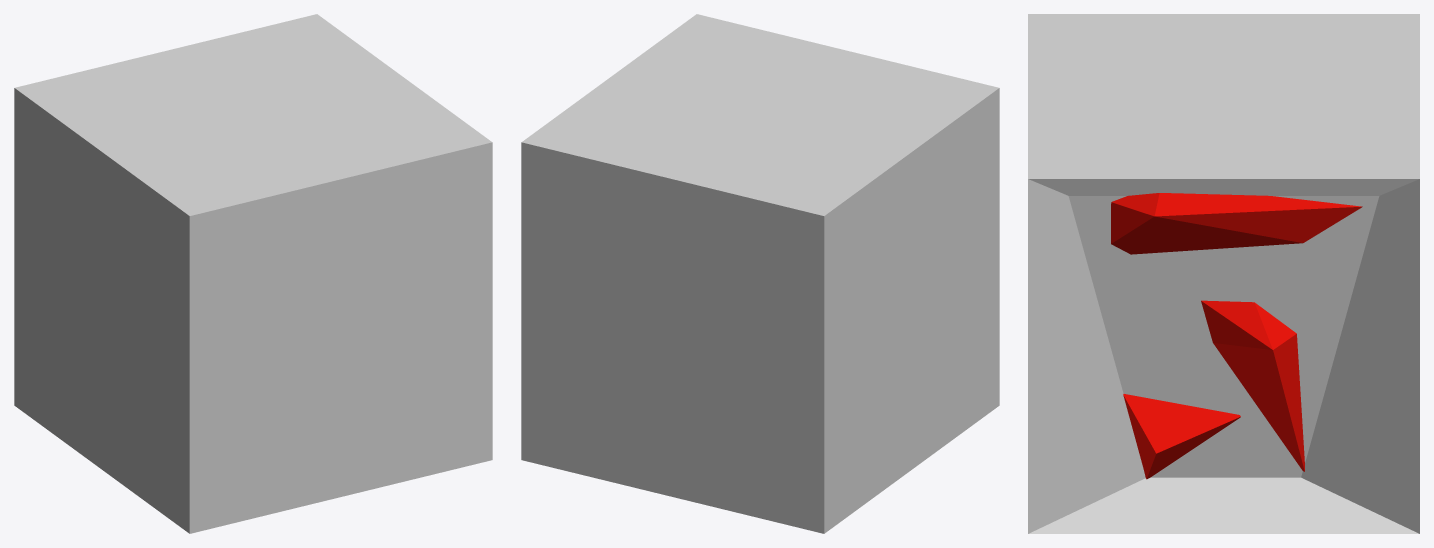
Rendered from CrystalRoot.fbx.
3 views of the same model, side by side, from view 1: azimuth 30°, elevation 25°; view 2: azimuth 150°, elevation 25°; view 3: azimuth 270°, elevation 25° (orthographic). The views are drawn at different scales.
Visible parts, largest first — view 1: Cube; view 2: Cube; view 3: Cube.
Part boxes in pixels (x1,y1,x2,y2): Cube: (14,14,492,533); Cube: (521,14,999,533); Cube: (1028,14,1419,533).
Bounding box in the file's own units: 199 × 200 × 200.
